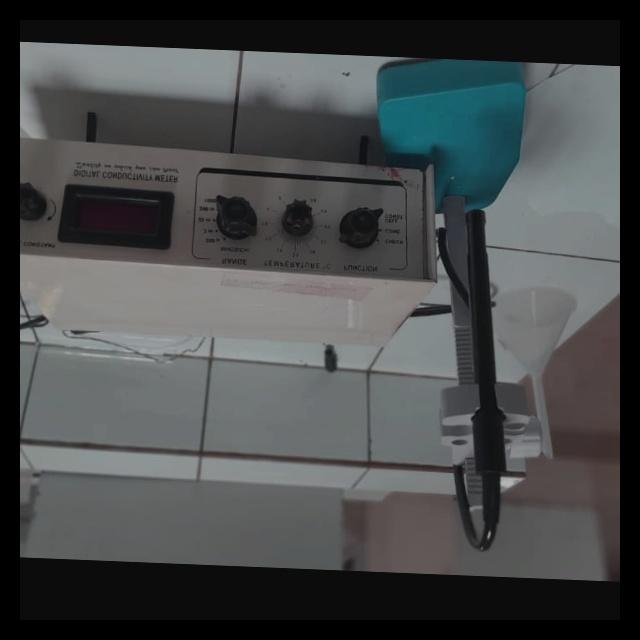Conductivity Meter: (20, 126, 541, 328)
